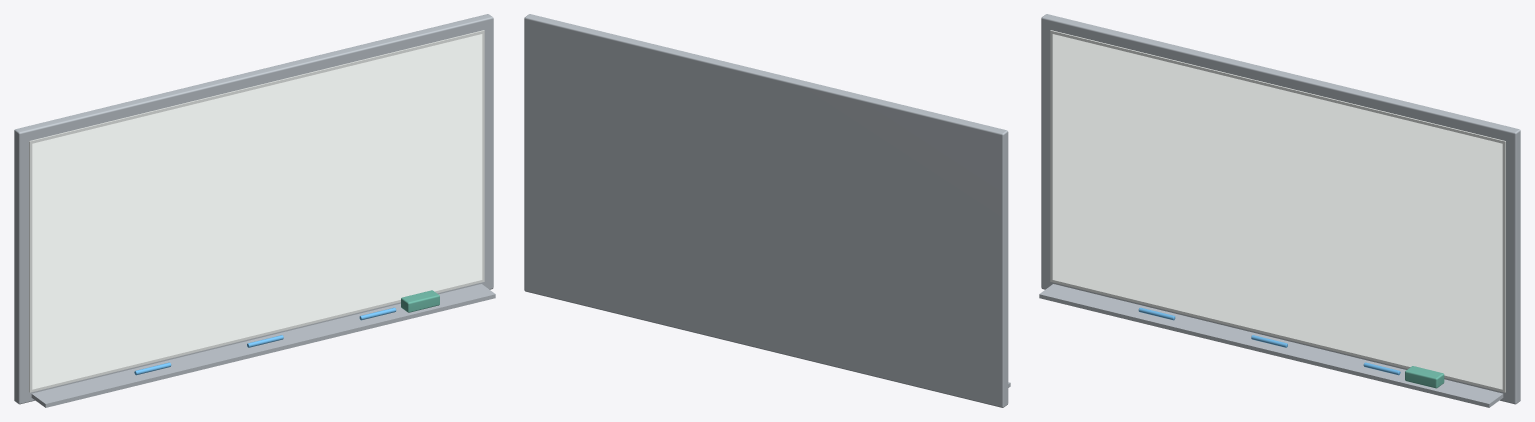
The model's file is whiteboard.glb.
3 views of the same model, side by side, from view 1: azimuth 30°, elevation 25°; view 2: azimuth 150°, elevation 25°; view 3: azimuth 330°, elevation 25° (orthographic).
Visible parts, largest first — view 1: Writing_Surface, Whiteboard_Frame, Marker_Tray, Whiteboard_Panel, Board_Eraser; view 2: Whiteboard_Frame; view 3: Writing_Surface, Whiteboard_Frame, Marker_Tray, Whiteboard_Panel, Board_Eraser.
Part boxes in pixels (box(x1,y1,x2,y2)): Writing_Surface: box(32, 34, 482, 389); Whiteboard_Frame: box(14, 14, 493, 404); Marker_Tray: box(31, 284, 495, 407); Whiteboard_Panel: box(29, 30, 484, 392); Board_Eraser: box(401, 290, 439, 312); Whiteboard_Frame: box(524, 14, 1008, 407); Writing_Surface: box(1052, 34, 1502, 389); Whiteboard_Frame: box(1041, 14, 1520, 404); Marker_Tray: box(1039, 284, 1503, 407); Whiteboard_Panel: box(1050, 30, 1505, 392); Board_Eraser: box(1405, 366, 1444, 388).
Bounding box in the file's own units: 1.9 × 1.04 × 0.136.
Materials: 5 (1 with a texture image).
